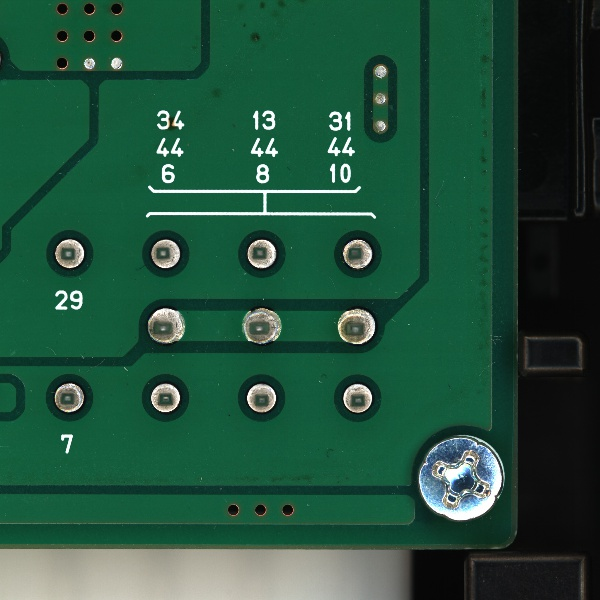Circle: (333, 302, 379, 348), (144, 303, 188, 350), (239, 303, 283, 348), (47, 376, 90, 416), (243, 379, 281, 420), (337, 377, 375, 416), (148, 378, 185, 416), (340, 234, 376, 273), (148, 234, 183, 271), (244, 234, 279, 271), (52, 236, 87, 270)
